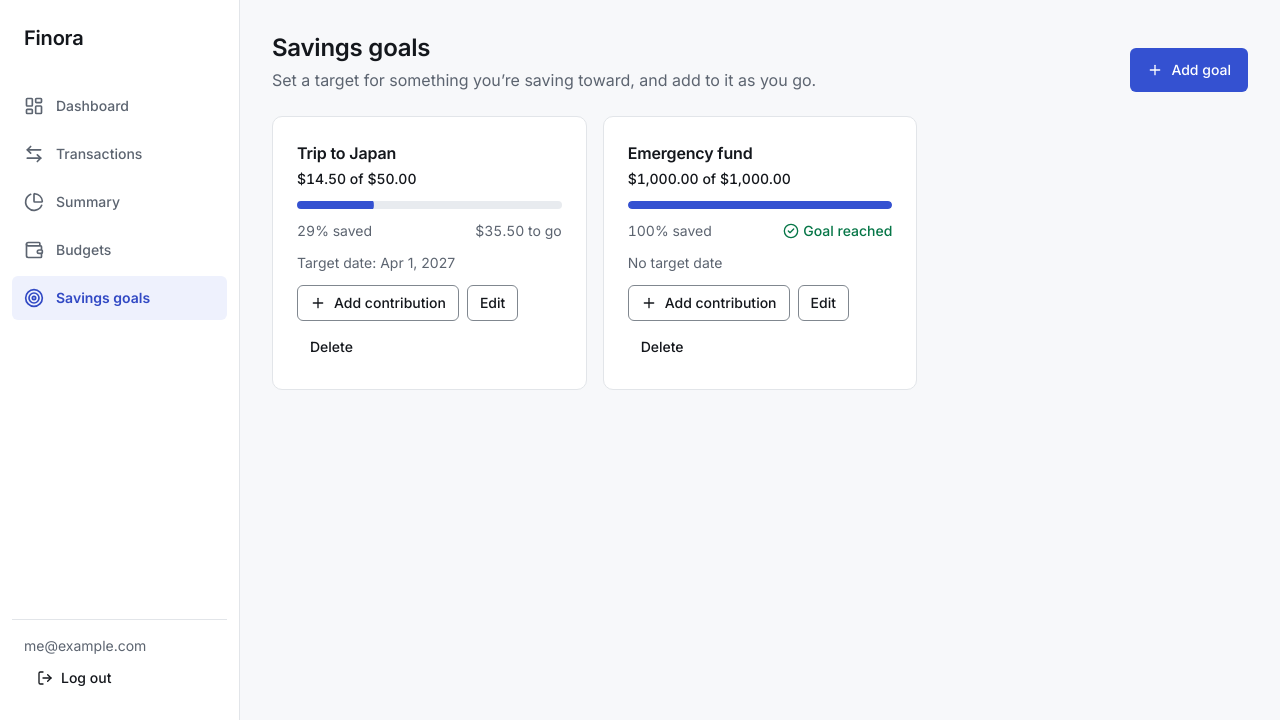
Test: creating a goal › creates the goal with the amount in cents, shows it first and says so
Expected: the list named "Savings goals" is shown, 272,116 -> 917,390
Step 1. Click the button "Add goal" → (1189, 70), box 1130,48 -> 1248,92
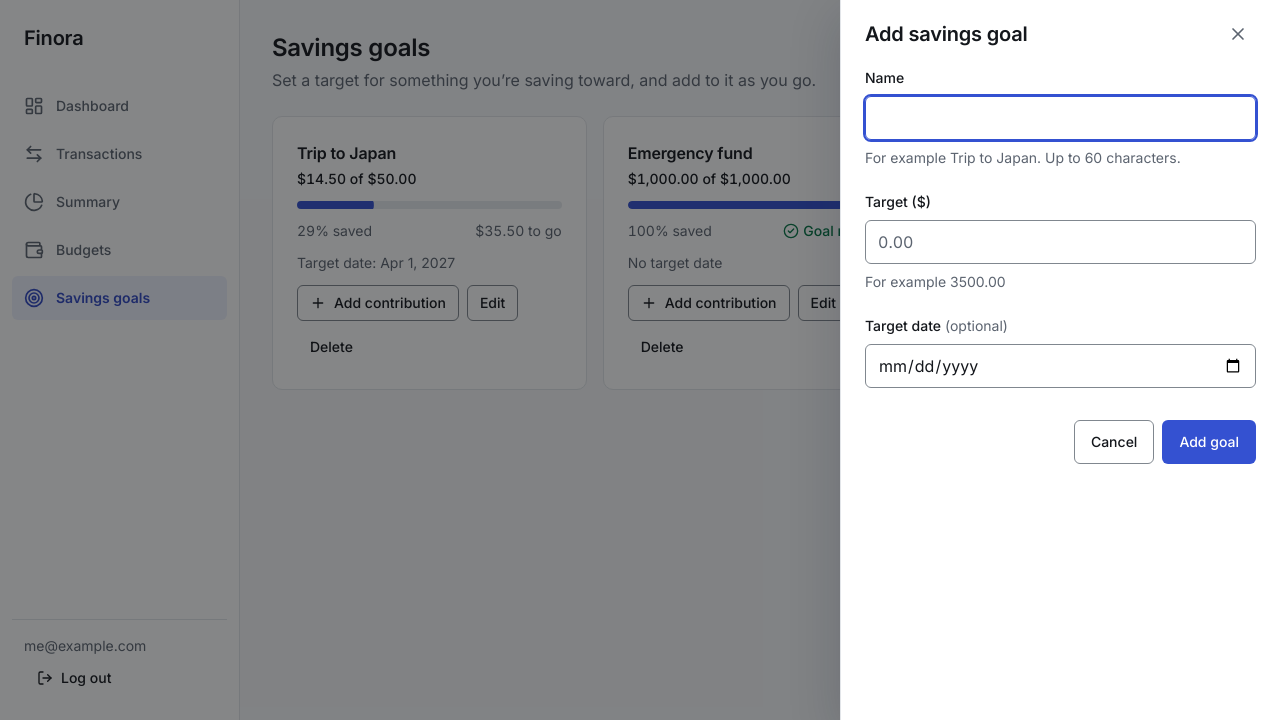
Step 2. Type "  New laptop  " into the field labelled "Name" → (1060, 118), box 865,96 -> 1256,140
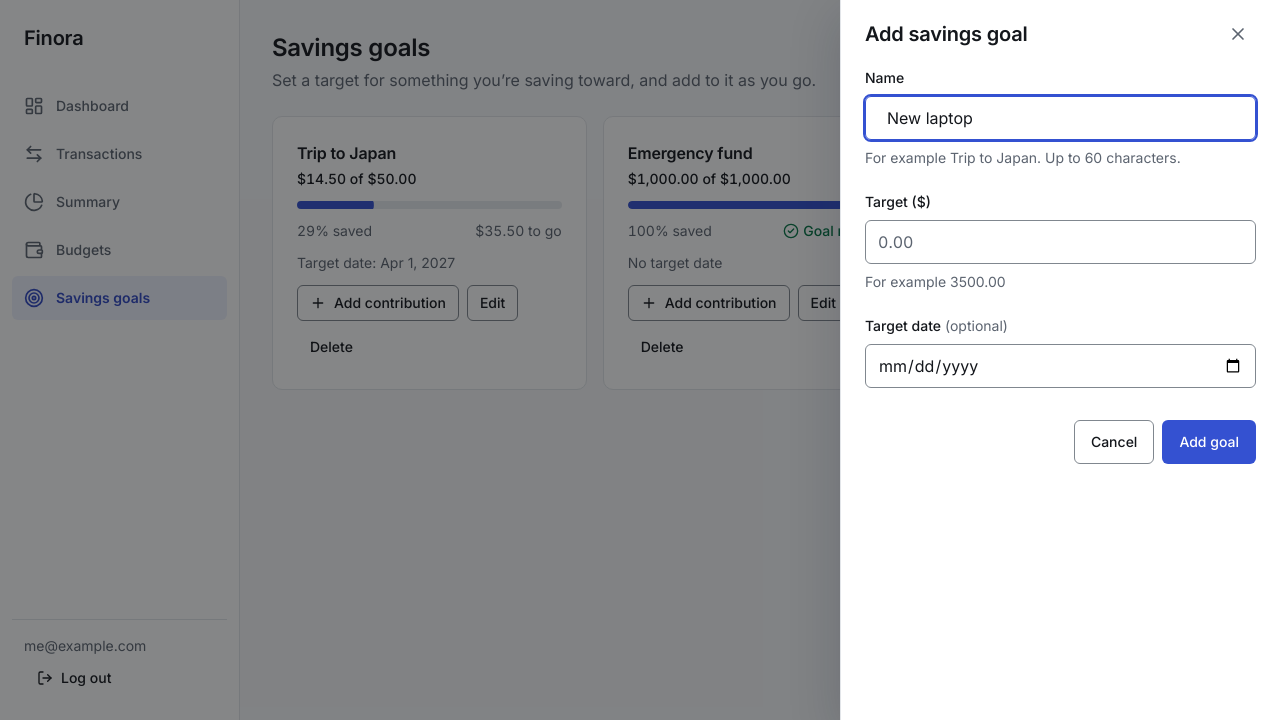
Step 3. Type "1,299.99" into the field labelled "Target ($)" → (1060, 242), box 865,220 -> 1256,264
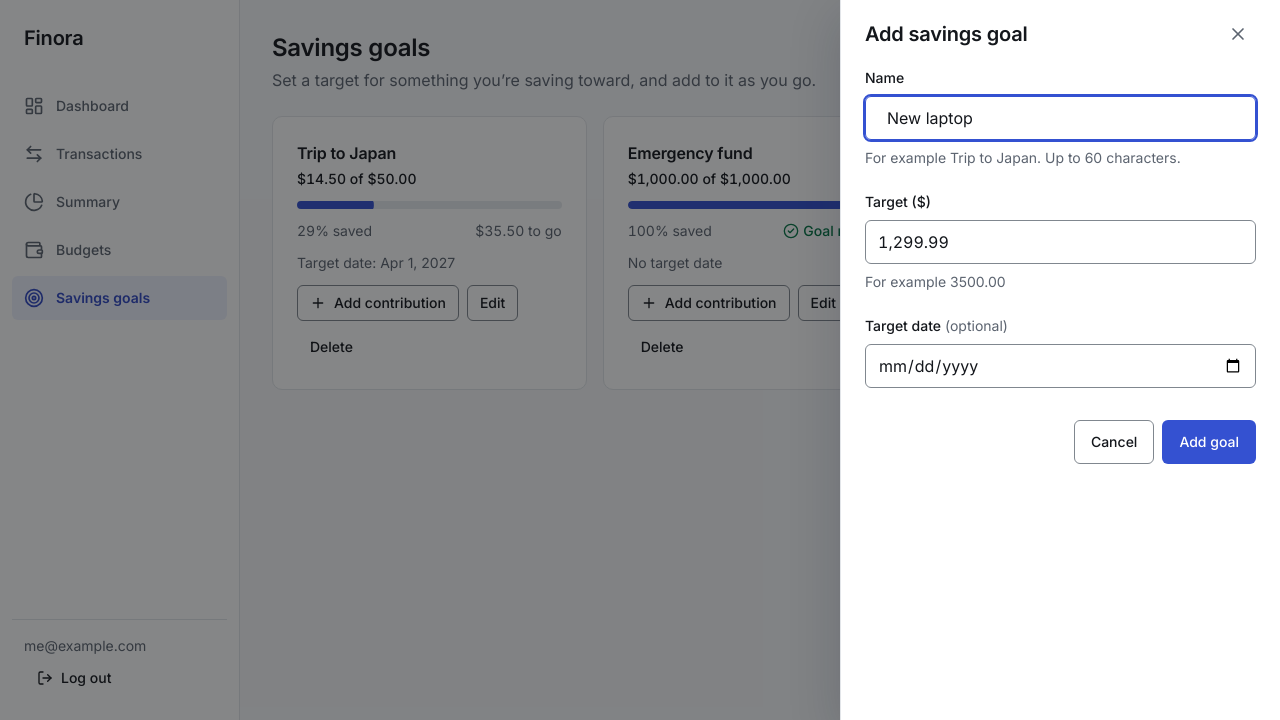
Step 4. Type "2027-01-15" into the date field labelled "Target date (optional)" → (1060, 366), box 865,344 -> 1256,388
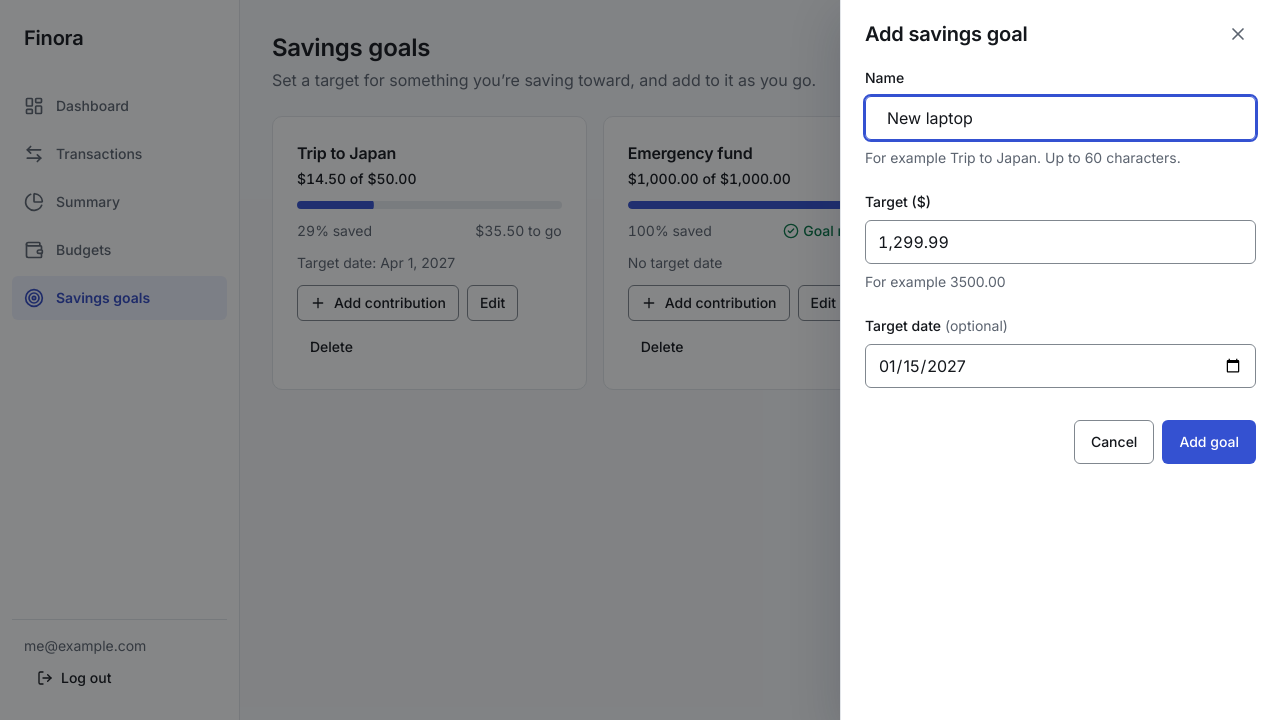
Step 5. Click the button "Add goal" → (1209, 442), box 1162,420 -> 1256,464
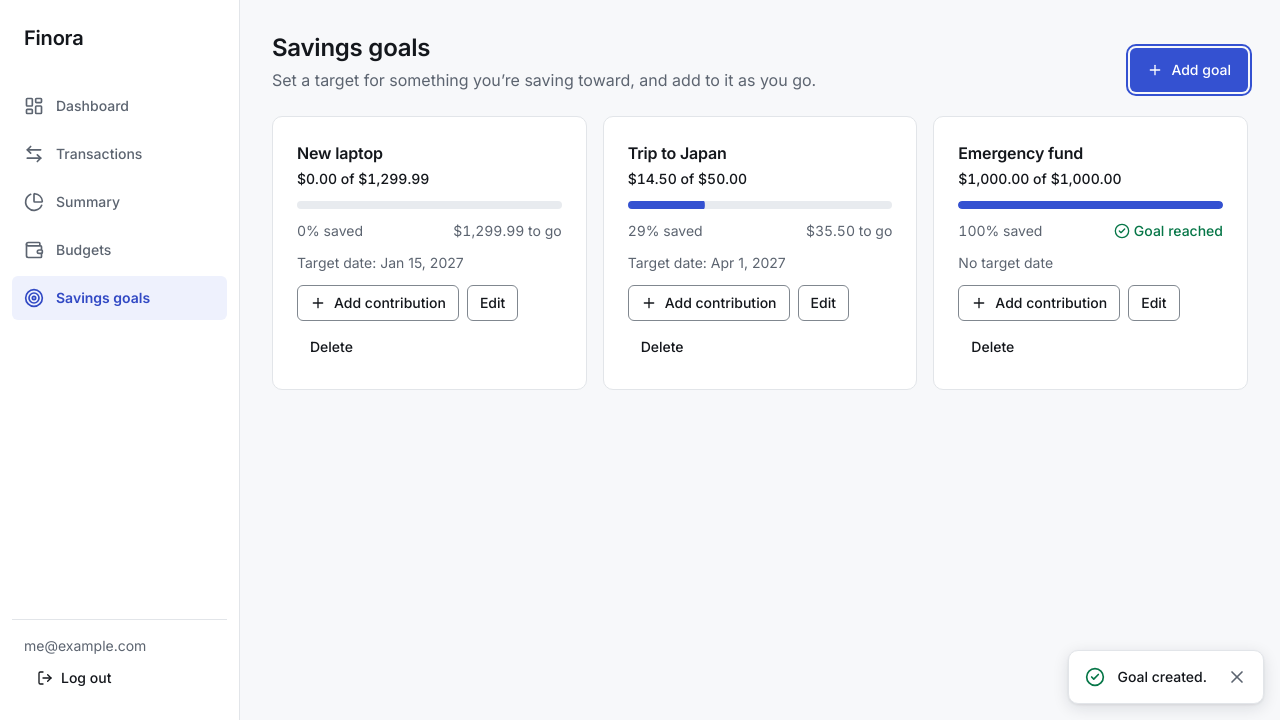
Expected: the text "Goal created." is shown, 1117,667 -> 1207,687
Expected: the dialog is gone
Expected: the heading "New laptop" is shown, 297,143 -> 383,163
